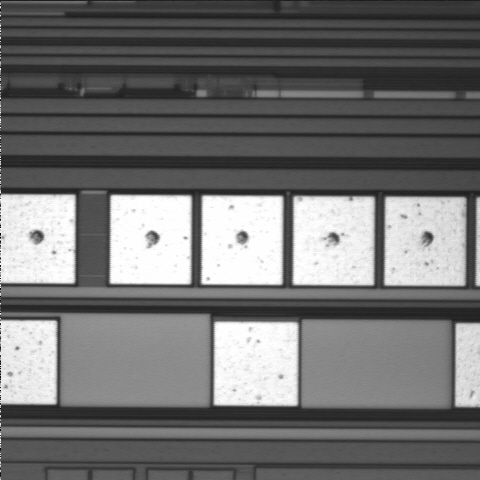pad: (110, 195, 192, 284), (201, 196, 283, 285), (293, 196, 374, 285), (385, 197, 465, 286), (214, 322, 298, 406)
